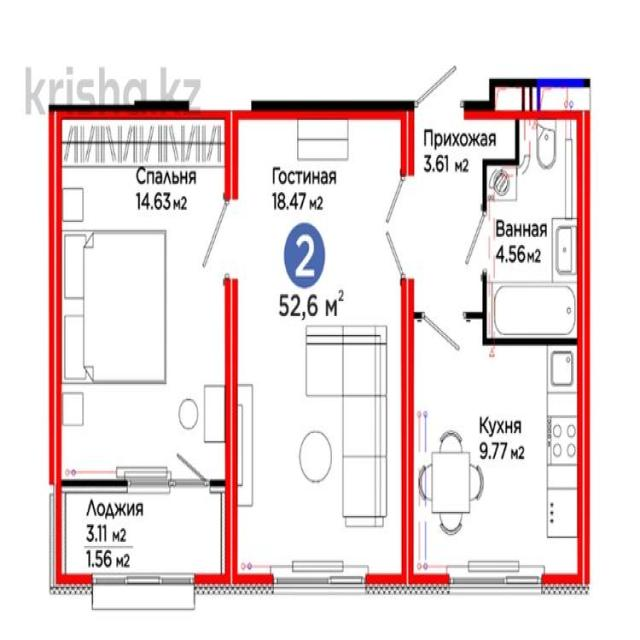balcony: (58, 487, 230, 590)
bathroom: (488, 117, 582, 339)
hallway: (415, 118, 483, 336)
kitchen: (414, 339, 577, 580)
living_room: (235, 115, 404, 578), (54, 114, 228, 480)
